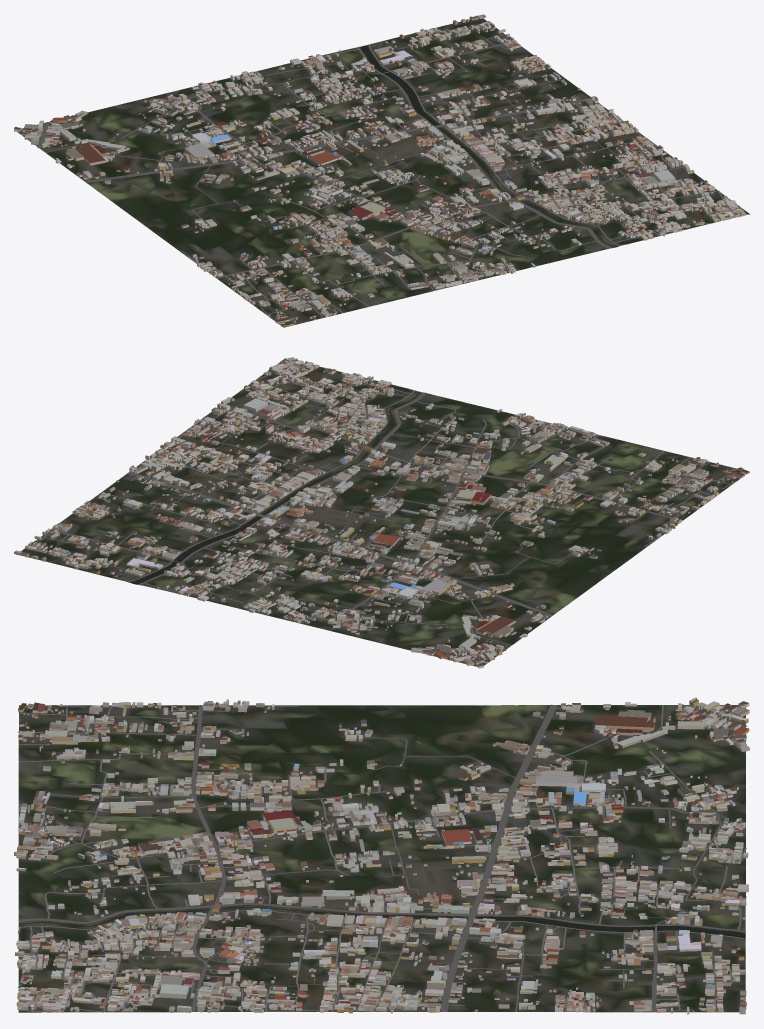
The picture shows the model from 3 angles, top to bottom: view 1: azimuth 30°, elevation 25°; view 2: azimuth 150°, elevation 25°; view 3: azimuth 270°, elevation 25°; orthographic projection. The views are drawn at different scales.
Parts seen in each view (by area): view 1: ground, buildings, roads, water; view 2: ground, buildings, roads, water; view 3: ground, buildings, roads, water.
Boxes of the visible parts, x1,y1,x2,y2 form: ground: [17, 18, 749, 327]; buildings: [14, 14, 746, 326]; roads: [36, 27, 746, 324]; water: [360, 45, 614, 247]; ground: [17, 358, 749, 666]; buildings: [14, 357, 749, 668]; roads: [36, 360, 737, 661]; water: [131, 391, 419, 584]; ground: [18, 705, 745, 1012]; buildings: [14, 697, 749, 1014]; roads: [18, 704, 747, 1012]; water: [18, 907, 745, 937].
Size of the model in its own units: 1416 by 21.02 by 1417.
